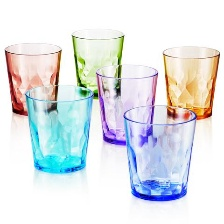glass: (118, 102, 208, 203), (20, 78, 101, 179), (91, 61, 164, 150), (0, 37, 69, 119), (157, 42, 223, 122), (65, 21, 128, 104)
